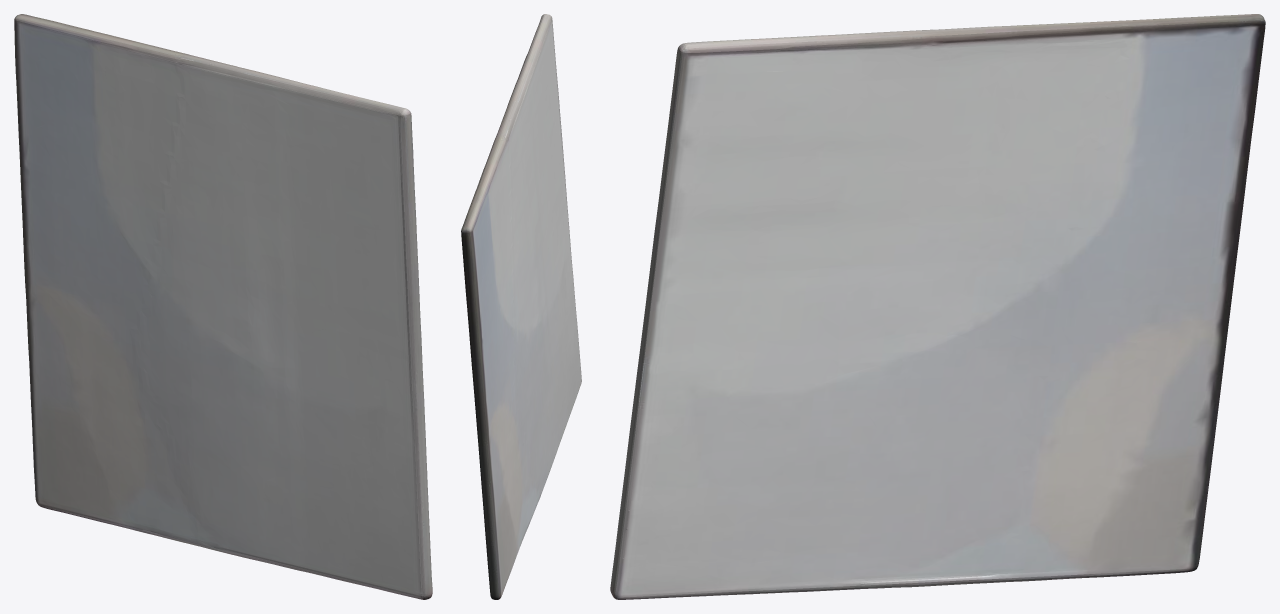
The model's file is abstract_wall_art_above_bed_000.glb.
The picture shows the model from 3 angles, left to right: view 1: azimuth 30°, elevation 25°; view 2: azimuth 150°, elevation 25°; view 3: azimuth 270°, elevation 25°; orthographic projection. The views are drawn at different scales.
Visible parts, largest first — view 1: abstract_wall_art_above_bed_000.obj; view 2: abstract_wall_art_above_bed_000.obj; view 3: abstract_wall_art_above_bed_000.obj.
Part boxes in pixels (x1,y1,x2,y2): abstract_wall_art_above_bed_000.obj: [14, 14, 432, 599]; abstract_wall_art_above_bed_000.obj: [461, 14, 581, 599]; abstract_wall_art_above_bed_000.obj: [610, 14, 1265, 599].
Size of the model in its own units: 0.2057 by 0.6235 by 0.6024.
Materials: 1 (1 with a texture image).
